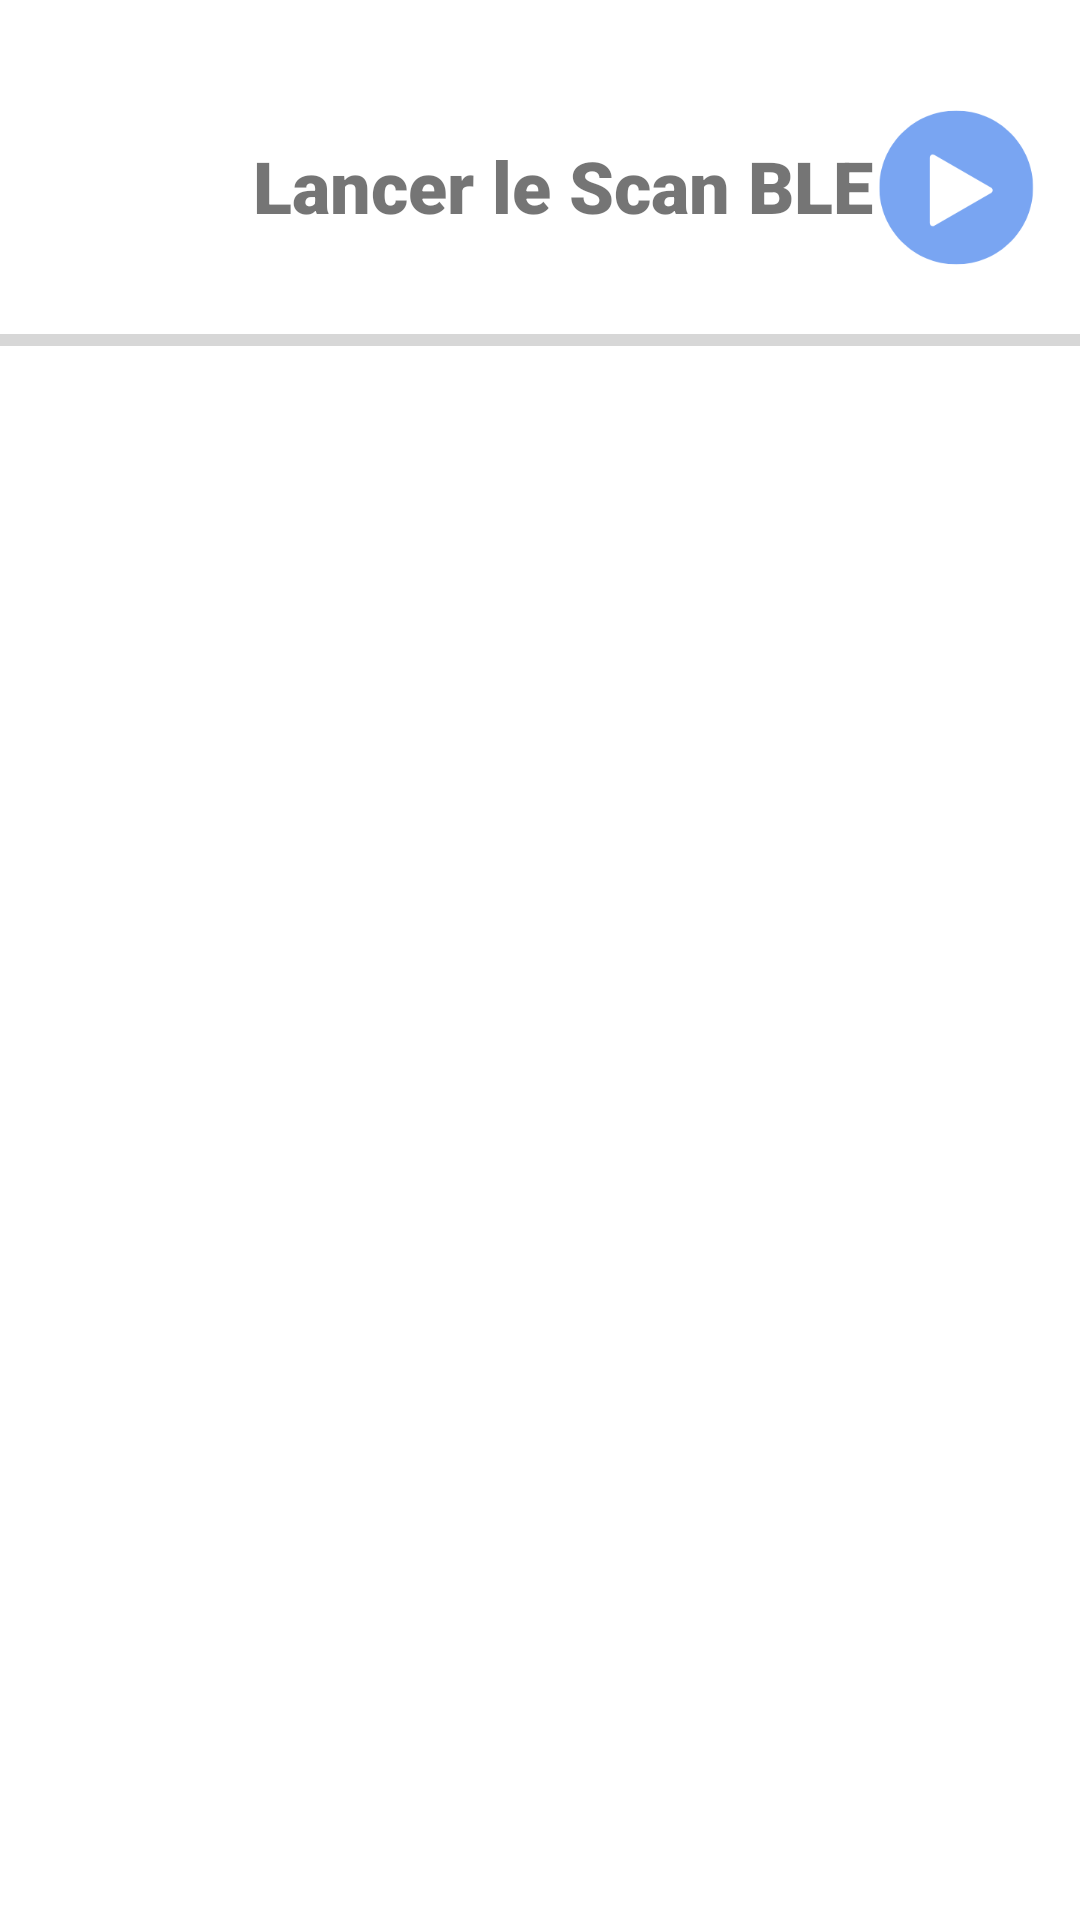

Where icons sit on this 1080px x 1920px app screen, as (x1, y1, x2, y2):
play: (879, 110, 1033, 265)
